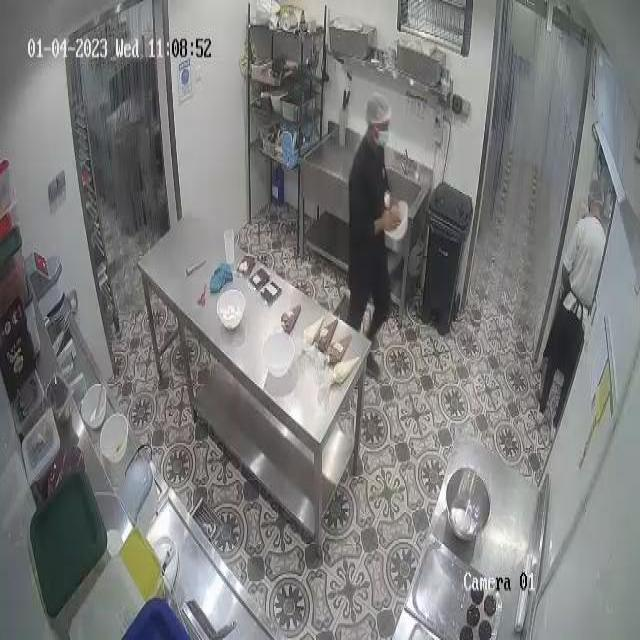hairnet: (368, 94, 393, 133), (588, 178, 608, 209)
